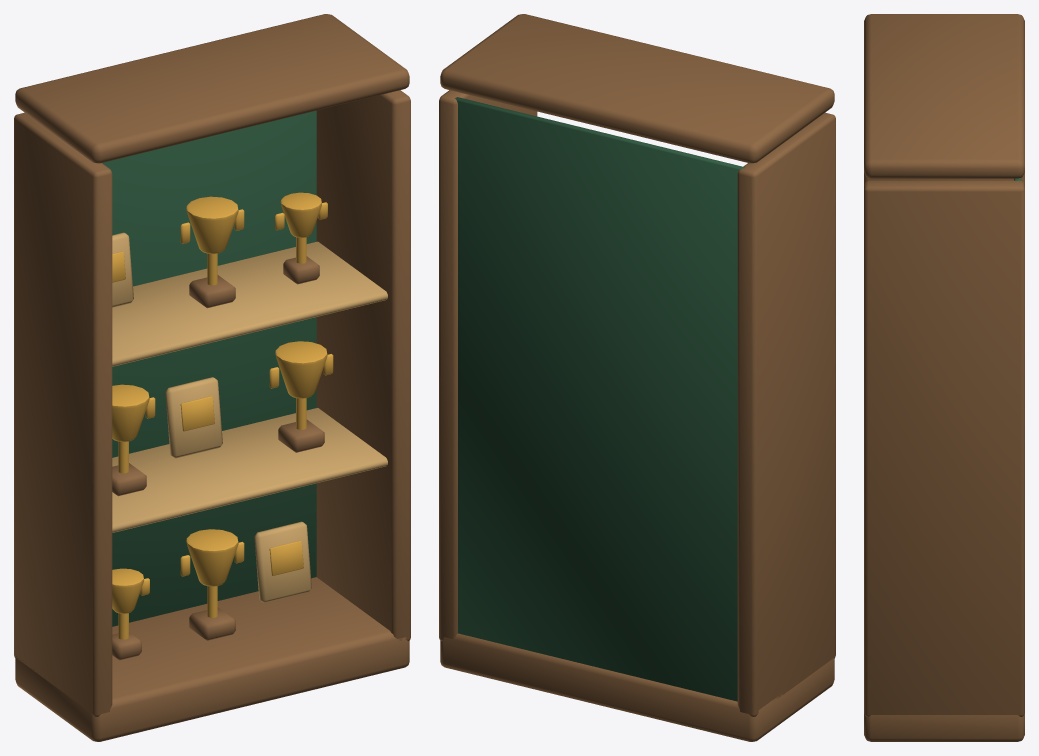
File: award_case.glb
3 views of the same model, side by side, from view 1: azimuth 30°, elevation 25°; view 2: azimuth 150°, elevation 25°; view 3: azimuth 270°, elevation 25° (orthographic). The views are drawn at different scales.
Parts seen in each view (by area): view 1: award_case; view 2: award_case; view 3: award_case.
Boxes of the visible parts, left/top/right/bottom form: award_case: left=14, top=14, right=410, bottom=741; award_case: left=439, top=14, right=835, bottom=741; award_case: left=864, top=14, right=1024, bottom=741.
Size of the model in its own units: 1 by 1.8 by 0.45.
1 material, 1 textured.
